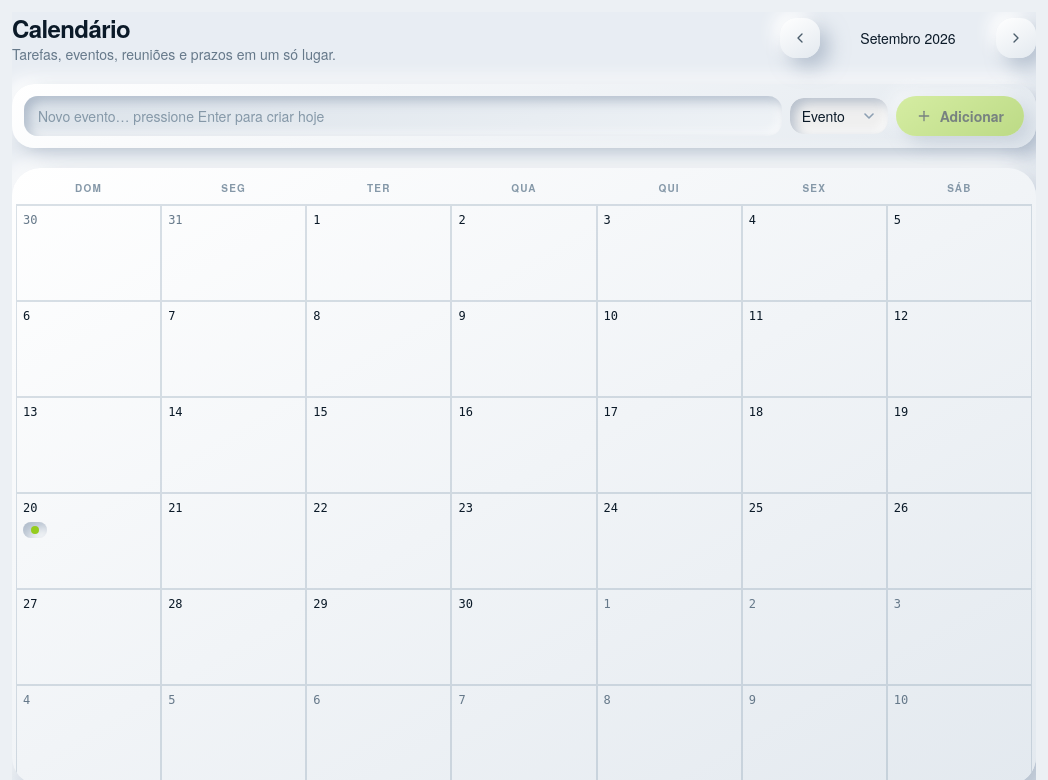
Test: Calendar page › opens the day's details menu and shows each item's title when its dot is clicked
Click the button named "1 tarefa": (35, 530) [23,522,47,538]
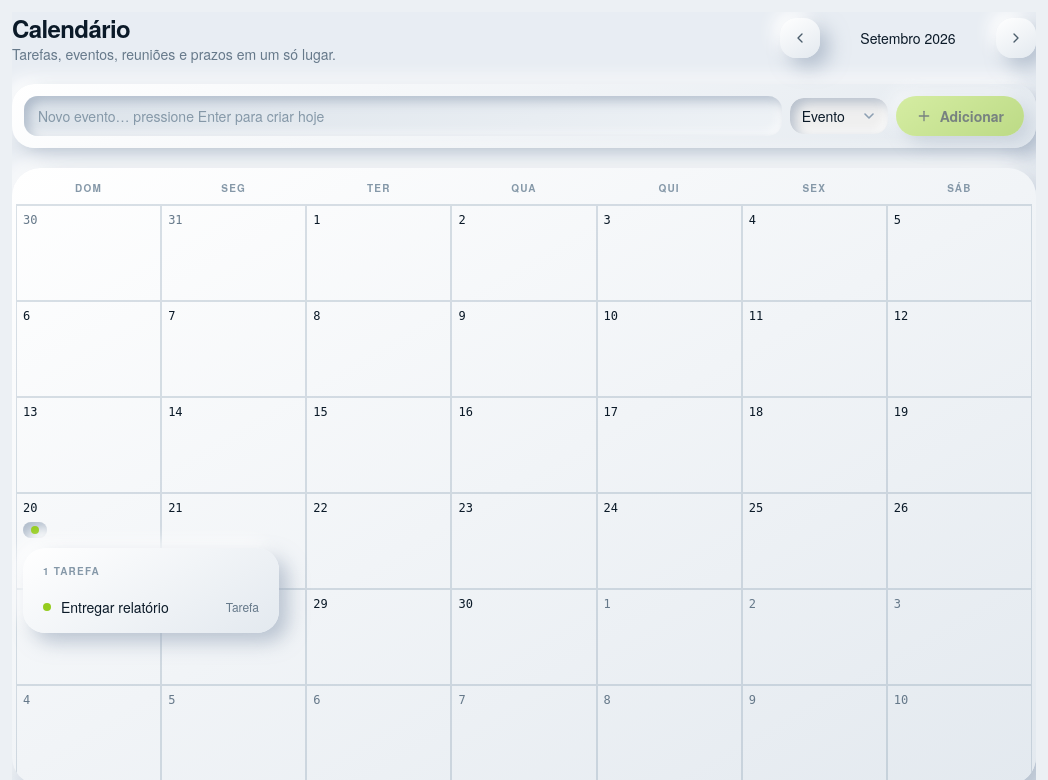
Check: the text "Entregar relatório" is shown, box [61,597,169,617]
